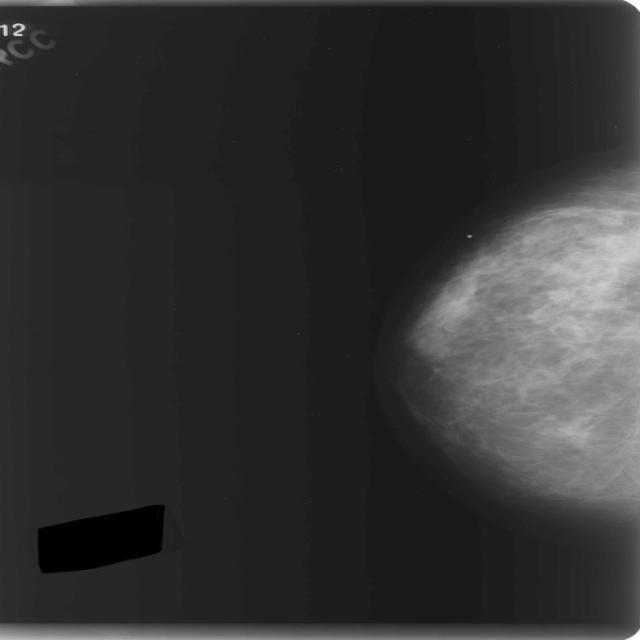tumour: (552, 228, 638, 309)
